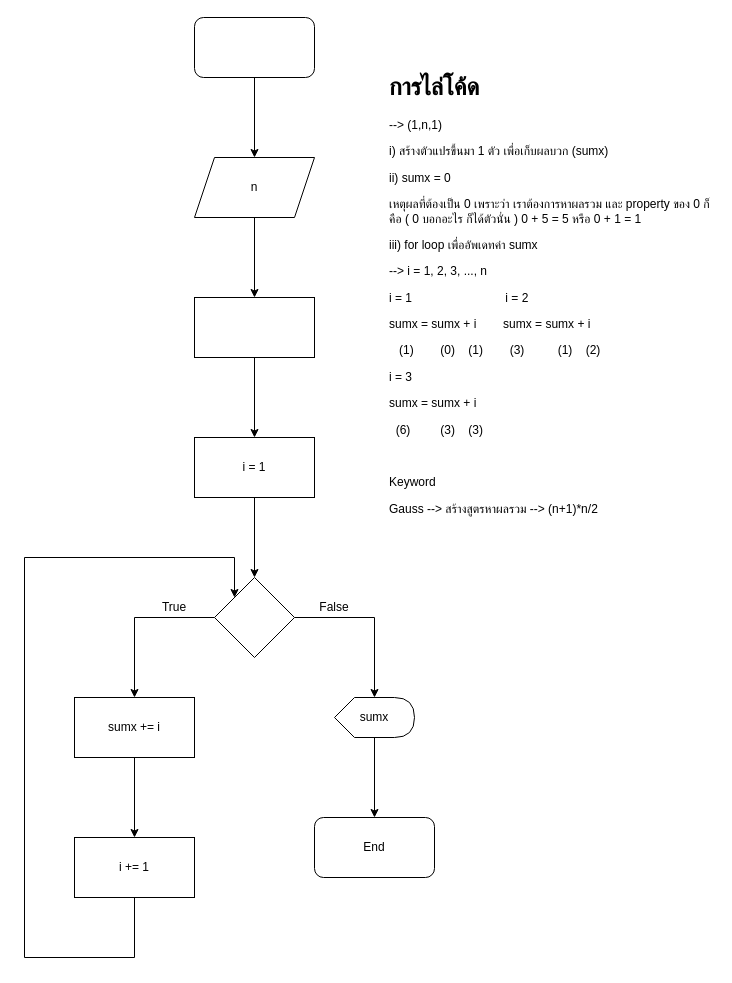
The diagram is 732 pixels wide and 983 high, and some of its shapes have lost their labels. Here are the shapes that lost their labels. From the top down, the box of each, then its label:
(194, 16, 314, 78): start
(194, 296, 314, 358): sumx = 0
(214, 576, 294, 658): i <= n
